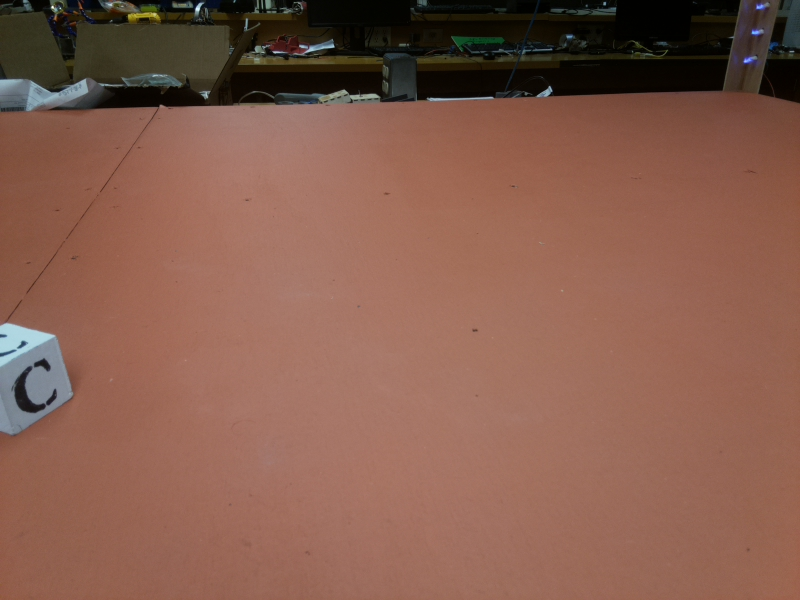blockC: (1, 322, 78, 437)
corner: (715, 1, 783, 95)
